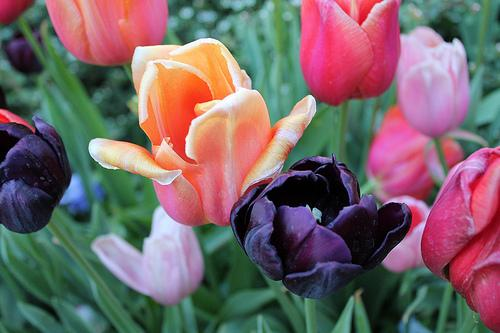tulip: (88, 39, 315, 223), (231, 156, 414, 299), (419, 147, 500, 330), (89, 200, 208, 307), (299, 0, 399, 103), (0, 114, 74, 240), (45, 0, 170, 67), (396, 28, 466, 133)
